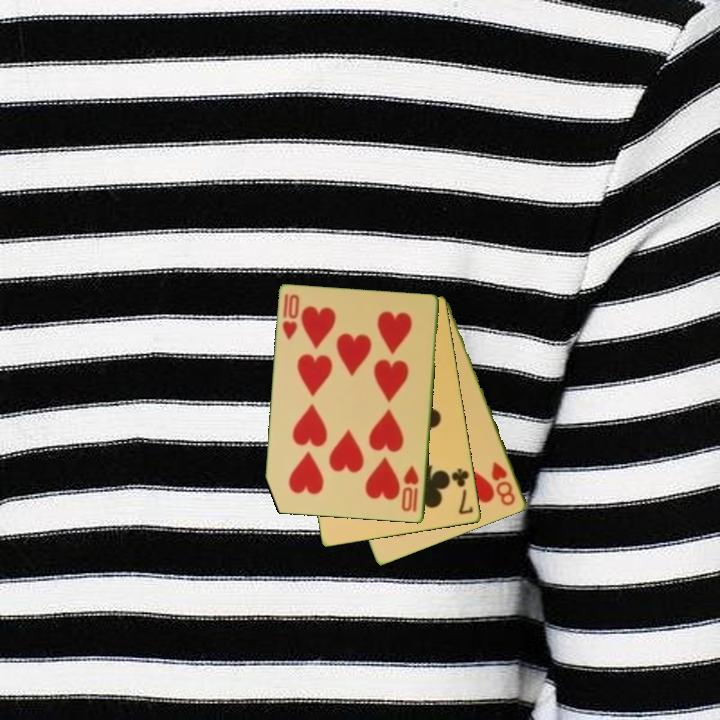10h: (279, 290, 303, 343), (398, 463, 422, 515)
7c: (448, 465, 476, 518)
8h: (488, 458, 519, 509)
